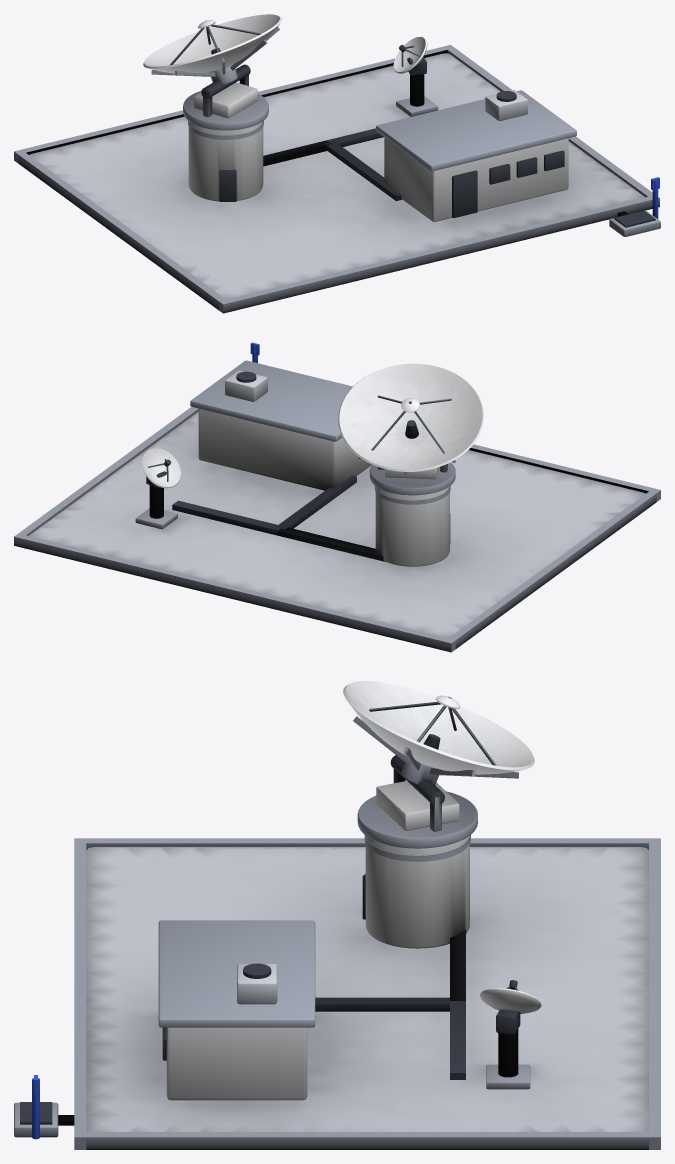
File: tracking-station.envelope.glb
3 renders of one model, top to bottom at view 1: azimuth 30°, elevation 25°; view 2: azimuth 150°, elevation 25°; view 3: azimuth 270°, elevation 25°, orthographic. The views are drawn at different scales.
Parts seen in each view (by area): view 1: tracking-station.light, tracking-station.mid, tracking-station.white, tracking-station.graphite, tracking-station.metal; view 2: tracking-station.light, tracking-station.white, tracking-station.mid, tracking-station.graphite, tracking-station.metal; view 3: tracking-station.light, tracking-station.mid, tracking-station.white, tracking-station.graphite, tracking-station.metal.
Boxes of the visible parts, x1=… form: tracking-station.light: x1=29, y1=53, x2=644, y2=299; tracking-station.mid: x1=14, y1=45, x2=660, y2=313; tracking-station.white: x1=143, y1=14, x2=568, y2=221; tracking-station.graphite: x1=201, y1=45, x2=655, y2=227; tracking-station.metal: x1=151, y1=24, x2=420, y2=76; tracking-station.light: x1=29, y1=370, x2=645, y2=638; tracking-station.white: x1=142, y1=363, x2=484, y2=566; tracking-station.mid: x1=14, y1=360, x2=660, y2=652; tracking-station.graphite: x1=146, y1=371, x2=450, y2=562; tracking-station.metal: x1=148, y1=395, x2=455, y2=481; tracking-station.light: x1=86, y1=847, x2=648, y2=1131; tracking-station.mid: x1=14, y1=761, x2=660, y2=1149; tracking-station.white: x1=166, y1=681, x2=541, y2=1100; tracking-station.graphite: x1=20, y1=734, x2=520, y2=1125; tracking-station.metal: x1=353, y1=701, x2=518, y2=990.
Size of the model in its own units: 3.52 by 1.35 by 3.22.
